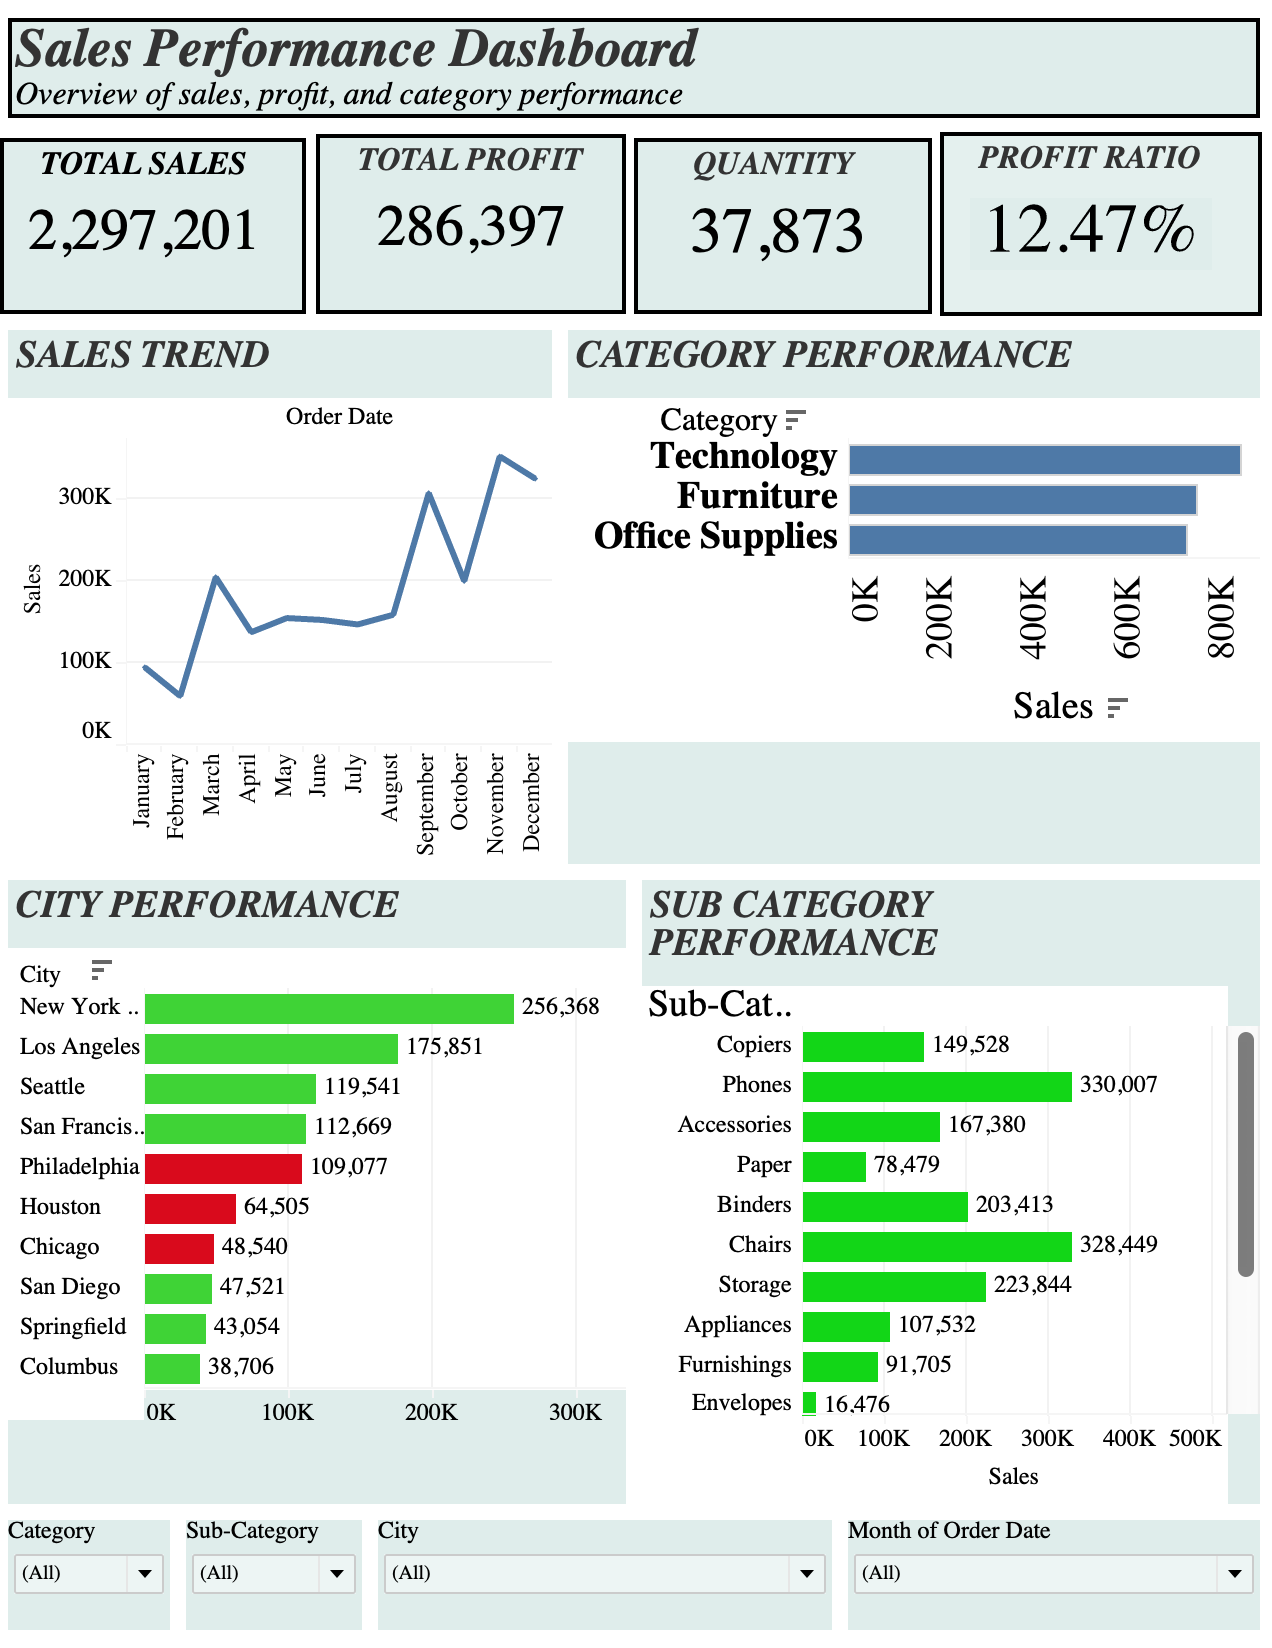

Layout of this report page (visuals, bound fields, positions):
{"tool":"tableau","page":{"name":"Sales Performance Dashboard","canvas":[650,860],"ordinal":0},"visuals":[{"type":"title","box":[8,10.6,634,77]},{"type":"worksheet","title":"TOTAL SALES","mark":"Automatic","box":[8,87.6,153.9,98.3]},{"type":"worksheet","title":"TOTAL PROFIT","mark":"Automatic","box":[161.9,87.6,163,98.3]},{"type":"worksheet","title":"QUANTITY ","mark":"Automatic","box":[324.9,87.6,150,98.3]},{"type":"worksheet","title":"PROFIT RATIO","mark":"Automatic","box":[475,87.6,167,98.3]},{"type":"worksheet","title":"SALES TREND","mark":"Automatic","rows":["Sales"],"cols":["Order Date"],"box":[8,185.9,280.1,277.3]},{"type":"worksheet","title":"CATEGORY PERFORMANCE","mark":"Automatic","rows":["Category"],"cols":["Sales"],"box":[288.1,185.9,353.9,277.3]},{"type":"worksheet","title":"CITY PERFORMANCE","mark":"Automatic","rows":["City"],"cols":["Sales"],"box":[8,463.2,317,322.7]},{"type":"worksheet","title":"SUB CATEGORY PERFORMANCE","mark":"Automatic","rows":["Sub-Category"],"cols":["Sales"],"box":[325,463.2,317,322.7]},{"type":"filter","title":"SALES TREND","param":"[federated.0larwdr0zph1v013tzec40xgwhs8].[none:Category:nk]","box":[8,785.9,89,63.5]},{"type":"filter","title":"SUB CATEGORY PERFORMANCE","param":"[federated.0larwdr0zph1v013tzec40xgwhs8].[none:Sub-Category:nk]","box":[97,785.9,96,63.5]},{"type":"filter","title":"CITY PERFORMANCE","param":"[federated.0larwdr0zph1v013tzec40xgwhs8].[none:City:nk]","box":[193,785.9,235,63.5]},{"type":"filter","title":"SALES TREND","param":"[federated.0larwdr0zph1v013tzec40xgwhs8].[mn:Order Date:ok]","box":[428,785.9,214,63.5]}]}

Visuals, with their boxes in screenshot pixels (x1, y1, x2, y2), scaled from the page's 650x860 canvas onto the 1272x1648 screenshot:
title: (x1=16, y1=20, x2=1256, y2=168)
"TOTAL SALES" worksheet: (x1=16, y1=168, x2=317, y2=356)
"TOTAL PROFIT" worksheet: (x1=317, y1=168, x2=636, y2=356)
"QUANTITY " worksheet: (x1=636, y1=168, x2=929, y2=356)
"PROFIT RATIO" worksheet: (x1=930, y1=168, x2=1256, y2=356)
"SALES TREND" worksheet: (x1=16, y1=356, x2=564, y2=888)
"CATEGORY PERFORMANCE" worksheet: (x1=564, y1=356, x2=1256, y2=888)
"CITY PERFORMANCE" worksheet: (x1=16, y1=888, x2=636, y2=1506)
"SUB CATEGORY PERFORMANCE" worksheet: (x1=636, y1=888, x2=1256, y2=1506)
"SALES TREND" filter: (x1=16, y1=1506, x2=190, y2=1628)
"SUB CATEGORY PERFORMANCE" filter: (x1=190, y1=1506, x2=378, y2=1628)
"CITY PERFORMANCE" filter: (x1=378, y1=1506, x2=838, y2=1628)
"SALES TREND" filter: (x1=838, y1=1506, x2=1256, y2=1628)
